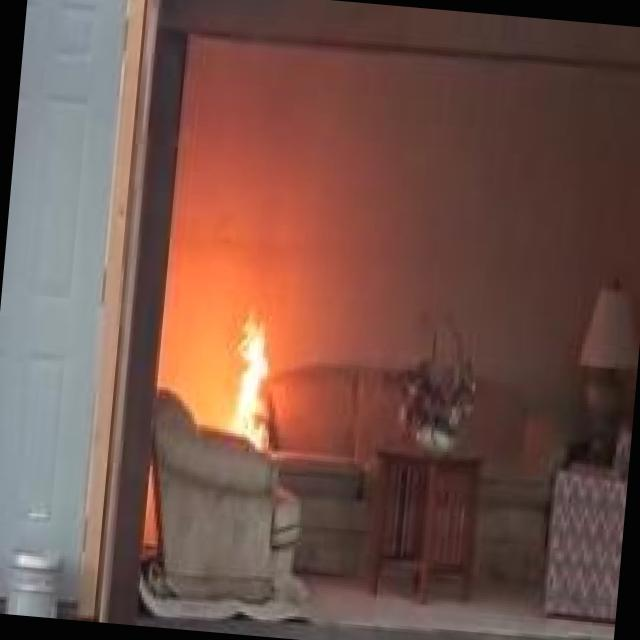fire: (178, 276, 322, 483)
